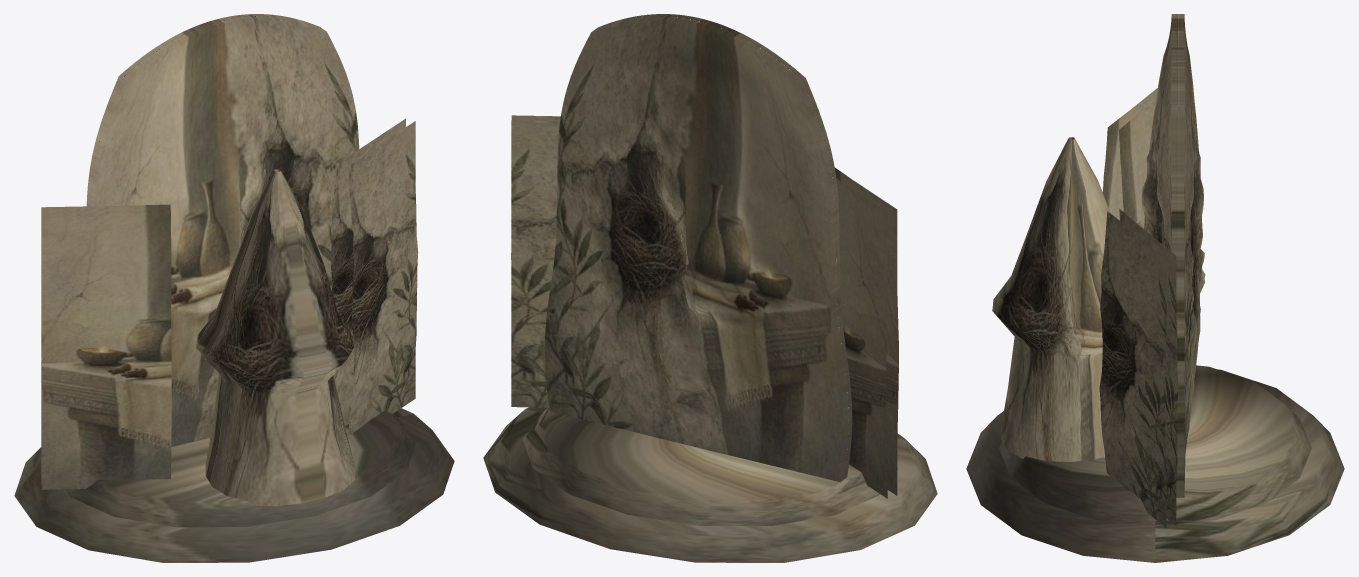
The model's file is psalms-3-12.glb.
The picture shows the model from 3 angles, left to right: view 1: azimuth 30°, elevation 25°; view 2: azimuth 150°, elevation 25°; view 3: azimuth 270°, elevation 25°; orthographic projection. The views are drawn at different scales.
Parts seen in each view (by area): view 1: PaintingSculptureMonument; view 2: PaintingSculptureMonument; view 3: PaintingSculptureMonument.
Part boxes in pixels (x1=…): PaintingSculptureMonument: x1=14, y1=14, x2=454, y2=562; PaintingSculptureMonument: x1=483, y1=14, x2=937, y2=562; PaintingSculptureMonument: x1=966, y1=14, x2=1344, y2=562.
Bounding box in the file's own units: 2.76 × 2.99 × 2.35.
Materials: 1 (1 with a texture image).
